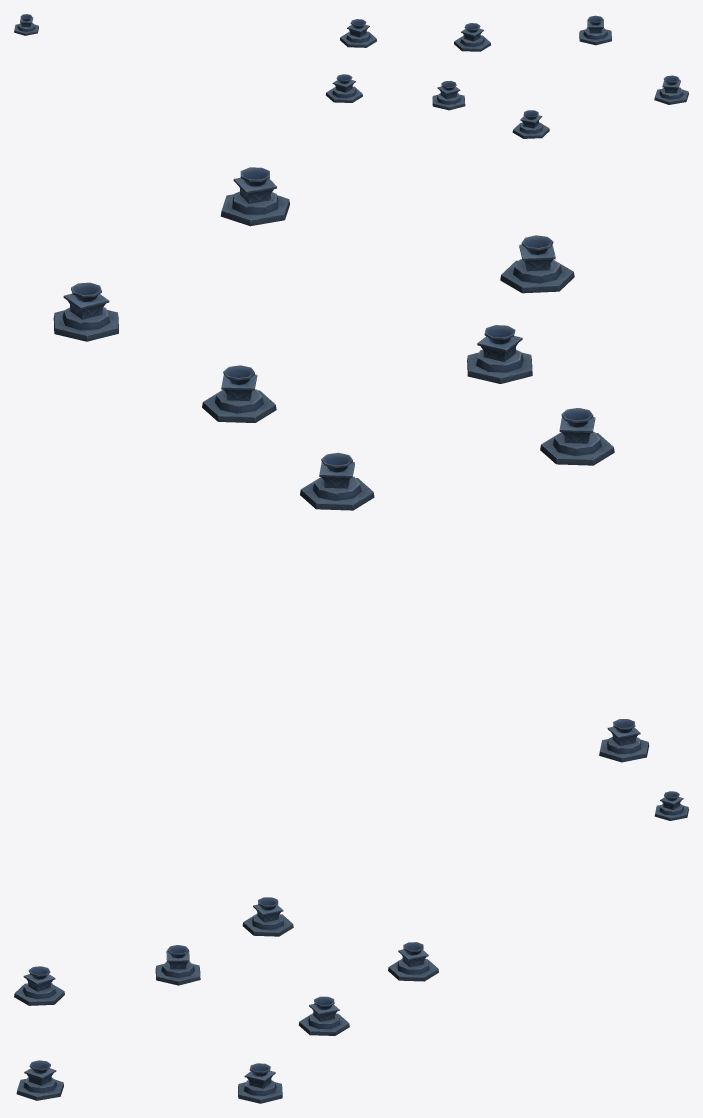
File: wujian26.fbx
3 views of the same model, one above another, from view 1: azimuth 30°, elevation 25°; view 2: azimuth 150°, elevation 25°; view 3: azimuth 270°, elevation 25° (orthographic). The views are drawn at different scales.
Parts seen in each view (by area): view 1: wujian26; view 2: wujian26; view 3: wujian26.
Boxes of the visible parts, bbox=[...] form: wujian26: bbox=[14, 14, 688, 138]; wujian26: bbox=[53, 167, 649, 762]; wujian26: bbox=[14, 791, 688, 1103].
Bounding box in the file's own units: 3581 × 143 × 3415.
Materials: 1 (1 with a texture image).
